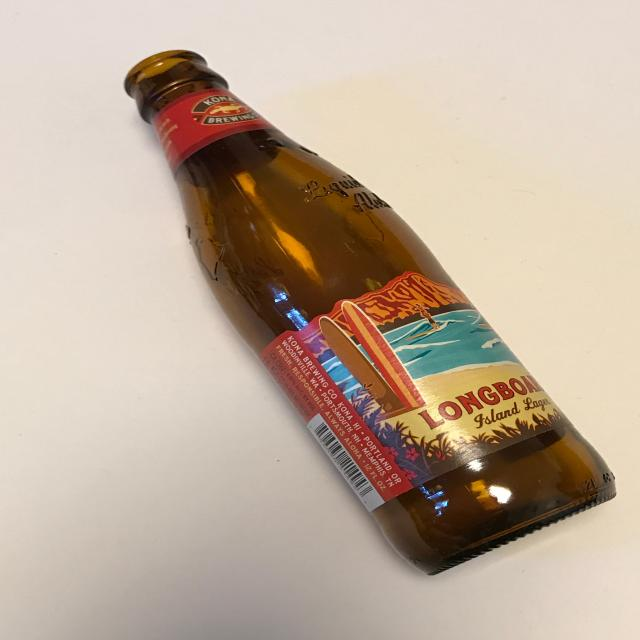glass: (123, 49, 618, 576)
